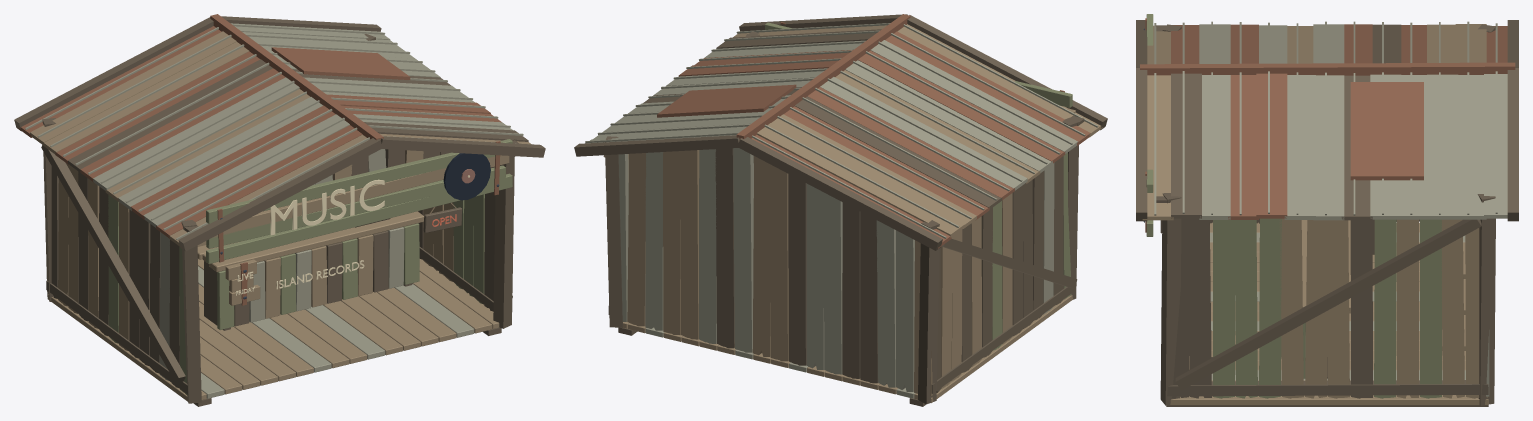
File: bld_music_shop.glb
3 renders of one model, left to right at view 1: azimuth 30°, elevation 25°; view 2: azimuth 150°, elevation 25°; view 3: azimuth 270°, elevation 25°, orthographic. The views are drawn at different scales.
Parts seen in each view (by area): view 1: bld_music_shop, bld_music_shop__Side_external_brace_-1, bld_music_shop__Roof_edge_left_-1, bld_music_shop__Roof_repair_patch, bld_music_shop__Corner_post_1_-1, bld_music_shop__Corner_post_-1_-1, bld_music_shop__Roof_peak_cap, bld_music_shop__Roof_edge_right_-1, bld_music_shop__Shop_record_mark, bld_music_shop__Music_letters, bld_music_shop__Side_crossbeam_-1_0.31, bld_music_shop__Side_crossbeam_1_0.31 (+3 smaller); view 2: bld_music_shop, bld_music_shop__Roof_repair_patch, bld_music_shop__Roof_peak_cap, bld_music_shop__Roof_edge_left_-1, bld_music_shop__Side_crossbeam_-1_0.31, bld_music_shop__Side_external_brace_-1, bld_music_shop__Corner_post_-1_-1, bld_music_shop__Roof_edge_right_-1; view 3: bld_music_shop, bld_music_shop__Roof_repair_patch, bld_music_shop__Roof_peak_cap, bld_music_shop__Side_crossbeam_1_0.31, bld_music_shop__Corner_post_1_-1, bld_music_shop__Roof_edge_right_-1, bld_music_shop__Floor_runner_2.53, bld_music_shop__Roof_edge_left_-1.
Part boxes in pixels (x1,y1,x2,y2): bld_music_shop: [14, 16, 531, 401]; bld_music_shop__Side_external_brace_-1: [41, 145, 185, 383]; bld_music_shop__Roof_edge_left_-1: [178, 138, 382, 251]; bld_music_shop__Roof_repair_patch: [271, 47, 410, 79]; bld_music_shop__Corner_post_1_-1: [493, 135, 514, 328]; bld_music_shop__Corner_post_-1_-1: [181, 220, 201, 403]; bld_music_shop__Roof_peak_cap: [210, 14, 383, 140]; bld_music_shop__Roof_edge_right_-1: [380, 136, 545, 157]; bld_music_shop__Shop_record_mark: [443, 153, 490, 200]; bld_music_shop__Music_letters: [270, 179, 384, 235]; bld_music_shop__Side_crossbeam_-1_0.31: [46, 280, 188, 394]; bld_music_shop__Side_crossbeam_1_0.31: [419, 247, 493, 311]; bld_music_shop: [574, 22, 1103, 404]; bld_music_shop__Roof_repair_patch: [657, 84, 796, 117]; bld_music_shop__Roof_peak_cap: [736, 14, 910, 138]; bld_music_shop__Roof_edge_left_-1: [907, 15, 1107, 130]; bld_music_shop__Side_crossbeam_-1_0.31: [931, 287, 1075, 393]; bld_music_shop__Side_external_brace_-1: [941, 239, 1077, 288]; bld_music_shop__Corner_post_-1_-1: [1062, 117, 1079, 299]; bld_music_shop__Roof_edge_right_-1: [739, 14, 907, 31]; bld_music_shop: [1142, 14, 1518, 405]; bld_music_shop__Roof_repair_patch: [1350, 82, 1423, 180]; bld_music_shop__Roof_peak_cap: [1140, 62, 1515, 75]; bld_music_shop__Side_crossbeam_1_0.31: [1167, 380, 1488, 396]; bld_music_shop__Corner_post_1_-1: [1160, 193, 1181, 405]; bld_music_shop__Roof_edge_right_-1: [1136, 68, 1147, 221]; bld_music_shop__Floor_runner_2.53: [1166, 405, 1488, 406]; bld_music_shop__Roof_edge_left_-1: [1136, 20, 1147, 67].
Size of the model in its own units: 6.32 by 3.96 by 5.11.
